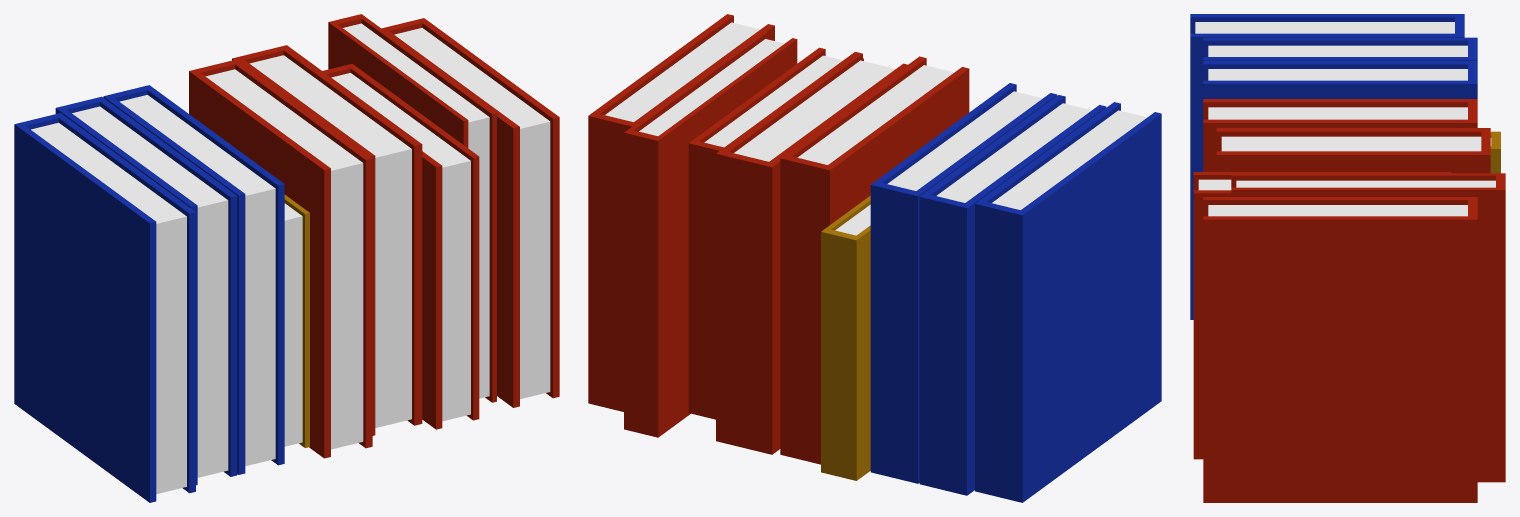
File: bukuShelf2.obj
3 views of the same model, side by side, from view 1: azimuth 30°, elevation 25°; view 2: azimuth 150°, elevation 25°; view 3: azimuth 270°, elevation 25° (orthographic). The views are drawn at different scales.
Visible parts, largest first — view 1: Book.002_Cube.020; view 2: Book.002_Cube.020; view 3: Book.002_Cube.020.
Part boxes in pixels (x1,y1,x2,y2): Book.002_Cube.020: [14, 14, 559, 502]; Book.002_Cube.020: [588, 14, 1161, 502]; Book.002_Cube.020: [1190, 14, 1505, 502].
Bounding box in the file's own units: 0.8198 × 0.5455 × 0.5313.
